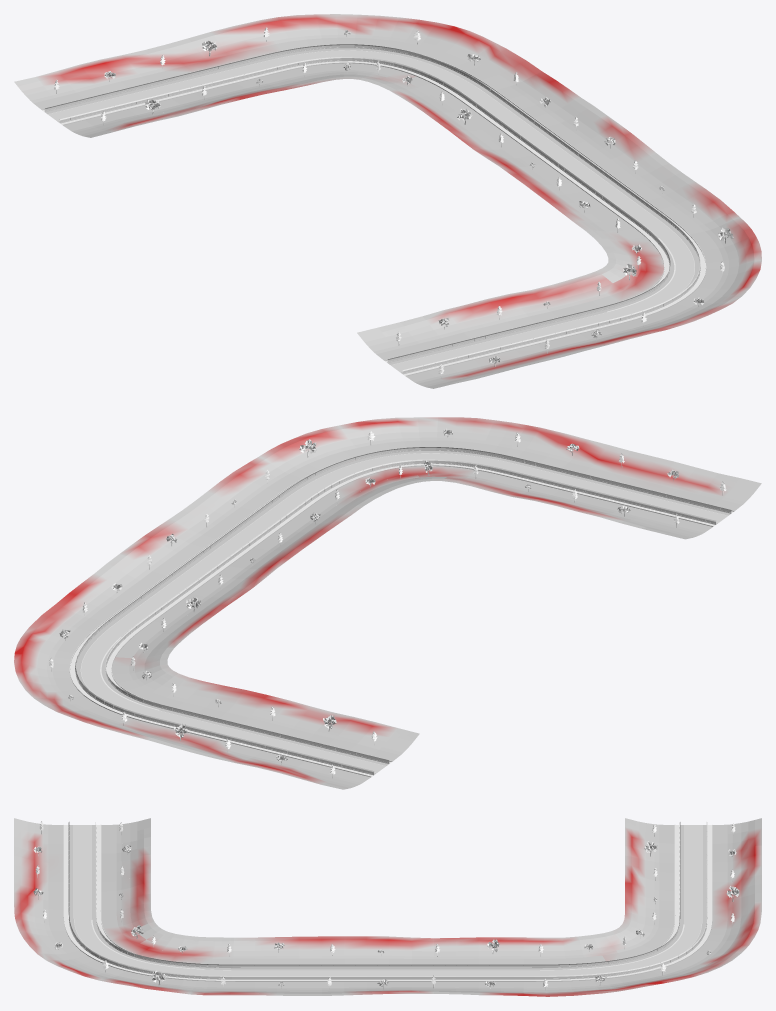
The picture shows the model from 3 angles, top to bottom: view 1: azimuth 30°, elevation 25°; view 2: azimuth 150°, elevation 25°; view 3: azimuth 270°, elevation 25°; orthographic projection. The views are drawn at different scales.
Visible parts, largest first — view 1: Grass, Road, Track, Wirefence, Trees; view 2: Grass, Road, Track, Wirefence, Trees; view 3: Grass, Road, Track, Wirefence, Trees.
Part boxes in pixels (bbox=[...]): Grass: bbox=[14, 14, 761, 388]; Road: bbox=[48, 50, 694, 371]; Track: bbox=[42, 44, 706, 376]; Wirefence: bbox=[45, 44, 700, 373]; Trees: bbox=[54, 27, 733, 378]; Grass: bbox=[14, 417, 761, 789]; Road: bbox=[81, 453, 727, 772]; Track: bbox=[69, 447, 734, 777]; Wirefence: bbox=[75, 447, 731, 774]; Trees: bbox=[49, 429, 726, 778]; Grass: bbox=[14, 818, 761, 996]; Road: bbox=[74, 825, 701, 975]; Track: bbox=[63, 822, 712, 981]; Wirefence: bbox=[68, 822, 707, 978]; Trees: bbox=[33, 821, 739, 990].
Size of the model in its own units: 43000 by 1946 by 76500.
